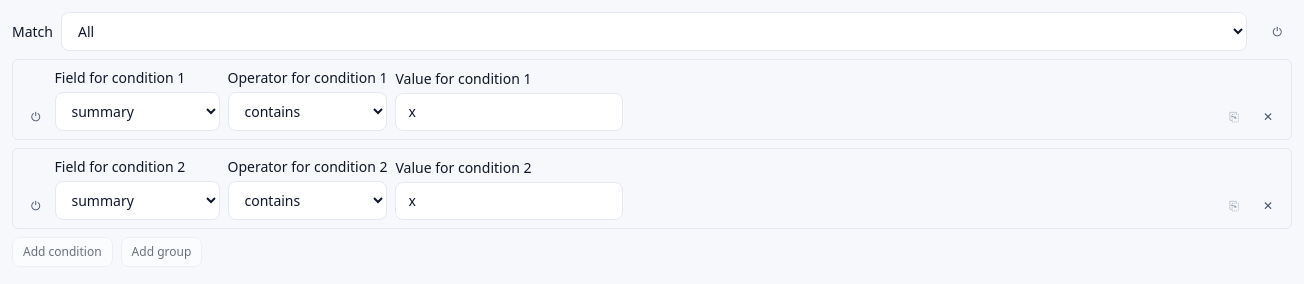
it: GroupEditor › stops adding conditions at the limit, and counts only enabled ones
The width and height of the screenshot is (1304, 284).
Expected: the button "Add condition" is disabled, [12, 237, 113, 267]
Expected: the button named "Duplicate condition 1" is disabled, [1219, 103, 1249, 131]
Click the button named "Disable condition 2" at (36, 206), box [21, 192, 50, 220]
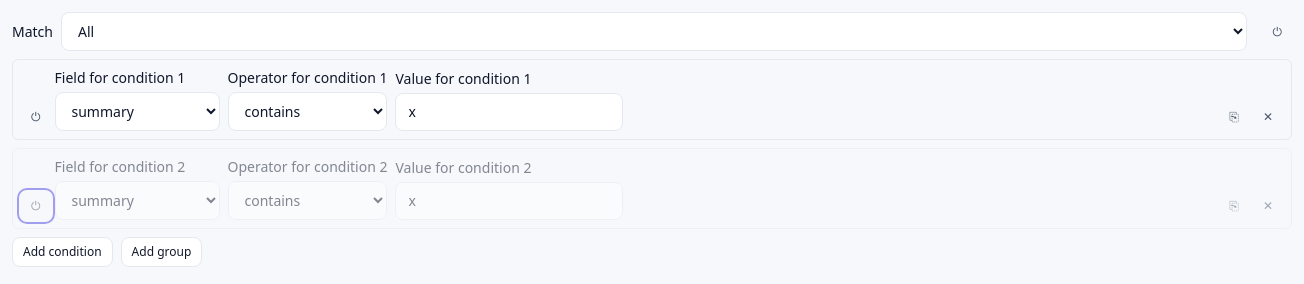
Expected: the button "Add condition" is enabled, [12, 237, 113, 267]
